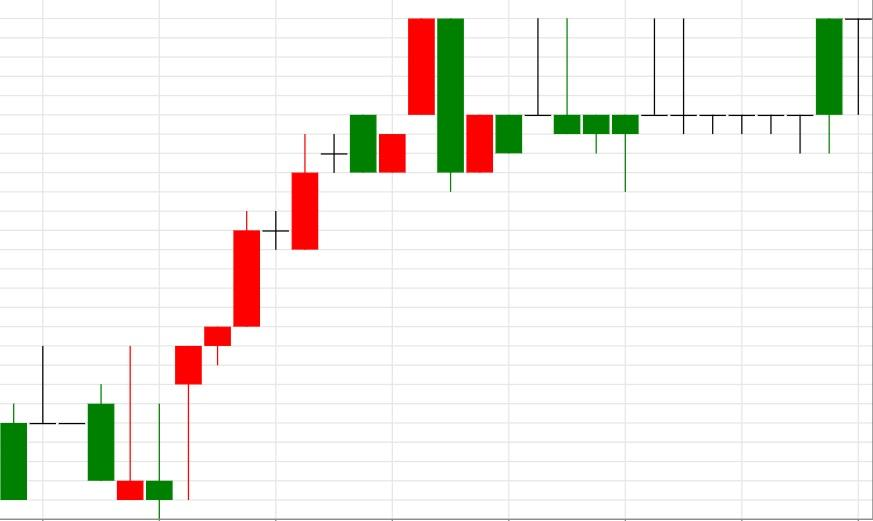bearish_engulfing_fall: (116, 18, 465, 519)
